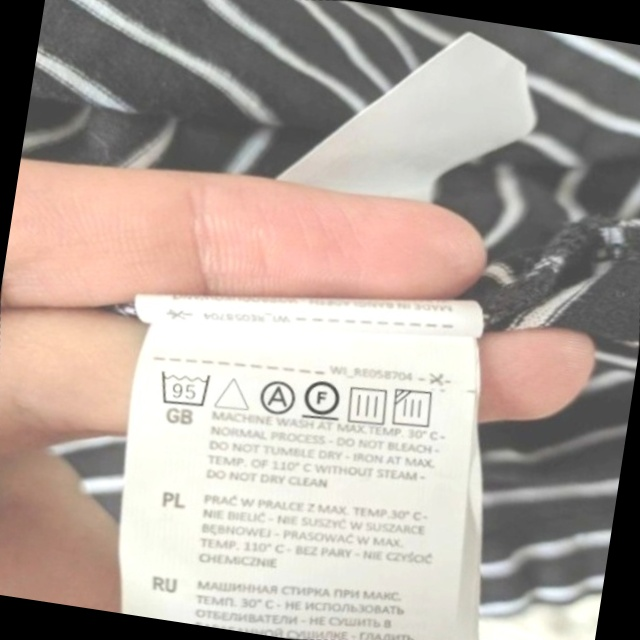95C: (151, 359, 220, 416)
bleach: (209, 366, 257, 419)
drip_dry: (339, 377, 396, 432)
drip_dry_in_shade: (386, 380, 444, 438)
dry_clean: (251, 373, 302, 421)
dry_clean_petrol_only: (296, 370, 349, 428)
